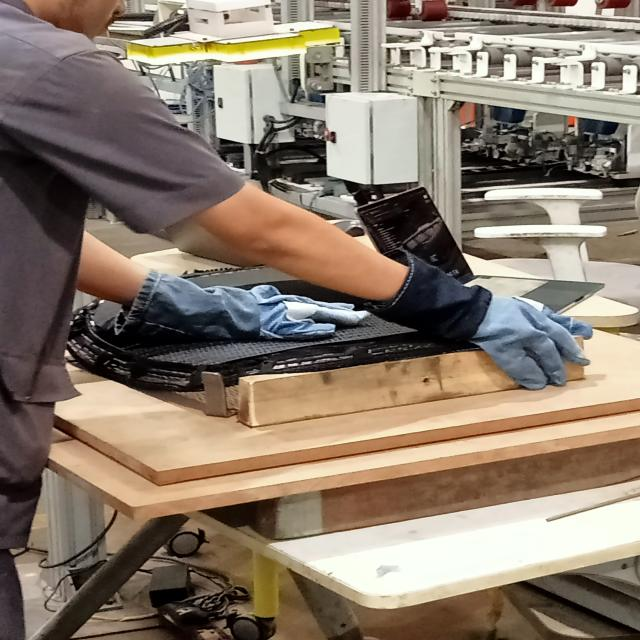Gloves-Detection: (393, 251, 594, 389), (140, 258, 330, 344)
